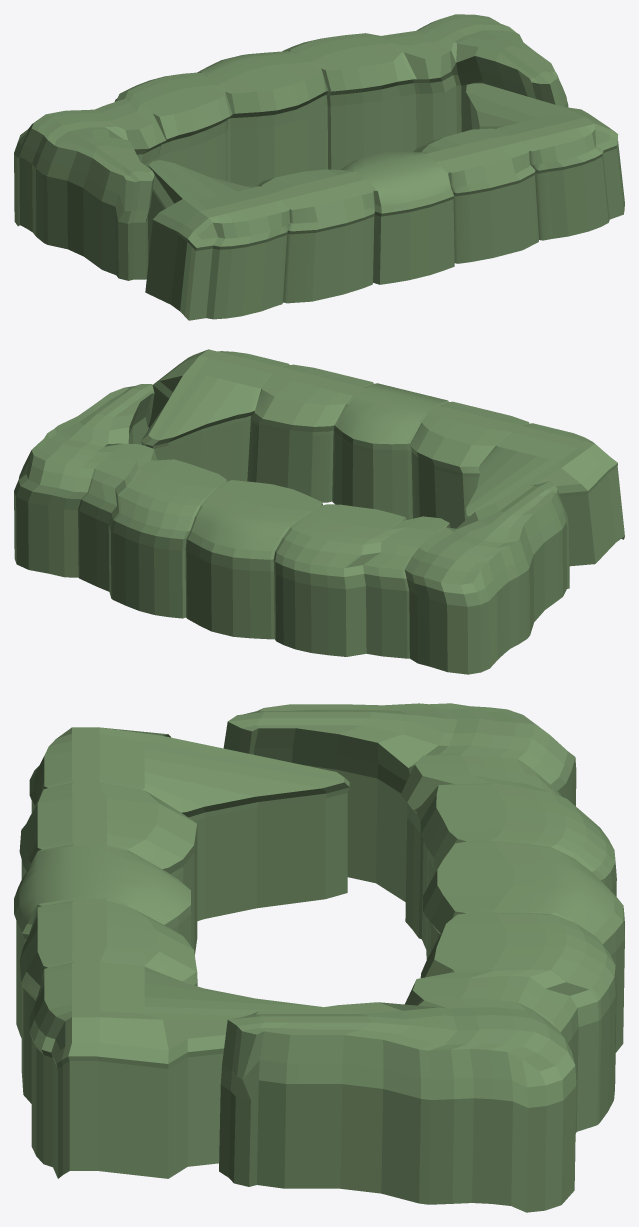
The model's file is VampireFangs.fbx.
3 views of the same model, one above another, from view 1: azimuth 30°, elevation 25°; view 2: azimuth 150°, elevation 25°; view 3: azimuth 270°, elevation 25° (orthographic). The views are drawn at different scales.
Visible parts, largest first — view 1: pPlane3; view 2: pPlane3; view 3: pPlane3.
Boxes of the visible parts, x1=… form: pPlane3: x1=14, y1=14, x2=624, y2=320; pPlane3: x1=14, y1=349, x2=624, y2=674; pPlane3: x1=14, y1=703, x2=624, y2=1212.
Bounding box in the file's own units: 44.94 × 9.76 × 32.05.
